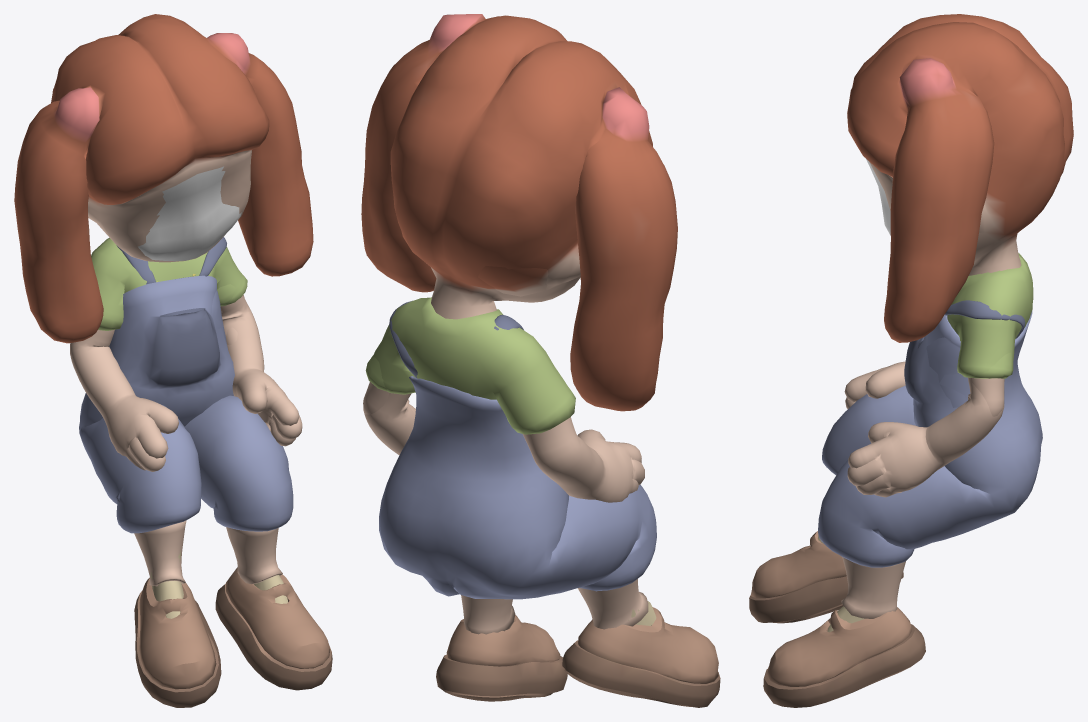
3 renders of one model, left to right at view 1: azimuth 30°, elevation 25°; view 2: azimuth 150°, elevation 25°; view 3: azimuth 270°, elevation 25°, orthographic. The views are drawn at different scales.
Visible parts, largest first — view 1: Arms.091; view 2: Arms.091; view 3: Arms.091.
Boxes of the visible parts, x1=… form: Arms.091: x1=14, y1=14, x2=332, y2=707; Arms.091: x1=361, y1=14, x2=720, y2=707; Arms.091: x1=749, y1=14, x2=1073, y2=707.
Size of the model in its own units: 67.29 by 148 by 67.71.
